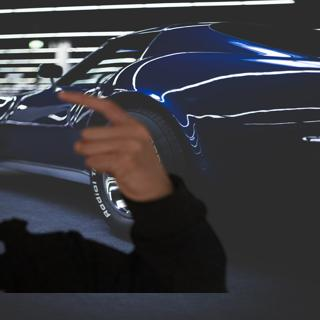WHY: (50, 86, 171, 198)
